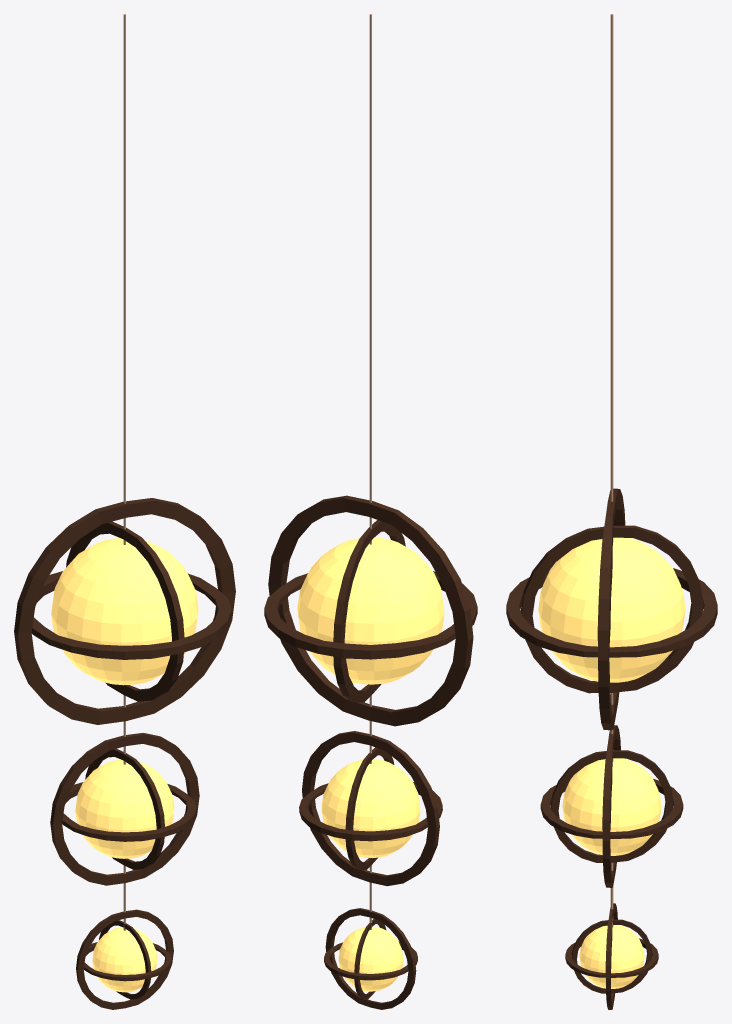
File: Luce 5 Gialla.fbx
3 views of the same model, side by side, from view 1: azimuth 30°, elevation 25°; view 2: azimuth 150°, elevation 25°; view 3: azimuth 270°, elevation 25° (orthographic).
Parts seen in each view (by area): view 1: Cylinder.062; view 2: Cylinder.062; view 3: Cylinder.062.
Part boxes in pixels (<box>): Cylinder.062: <box>14,14,235,1009</box>; Cylinder.062: <box>264,14,477,1009</box>; Cylinder.062: <box>506,14,717,1009</box>.
Bounding box in the file's own units: 61.59 × 279 × 54.08.
